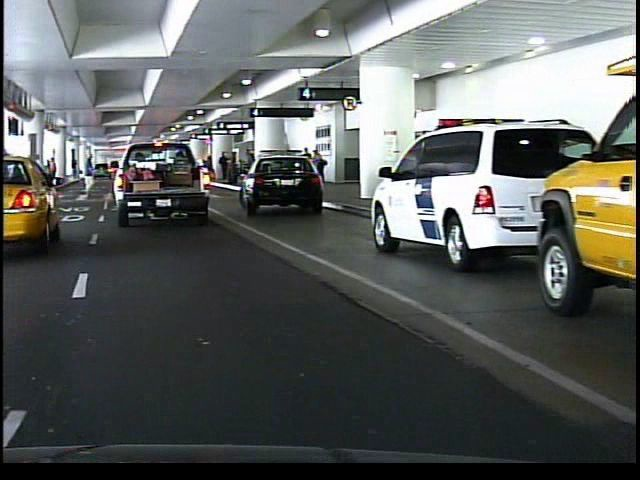person: (76, 152, 96, 198)
